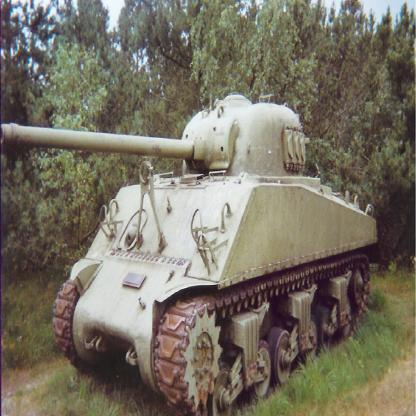Tank: (1, 92, 392, 416)
